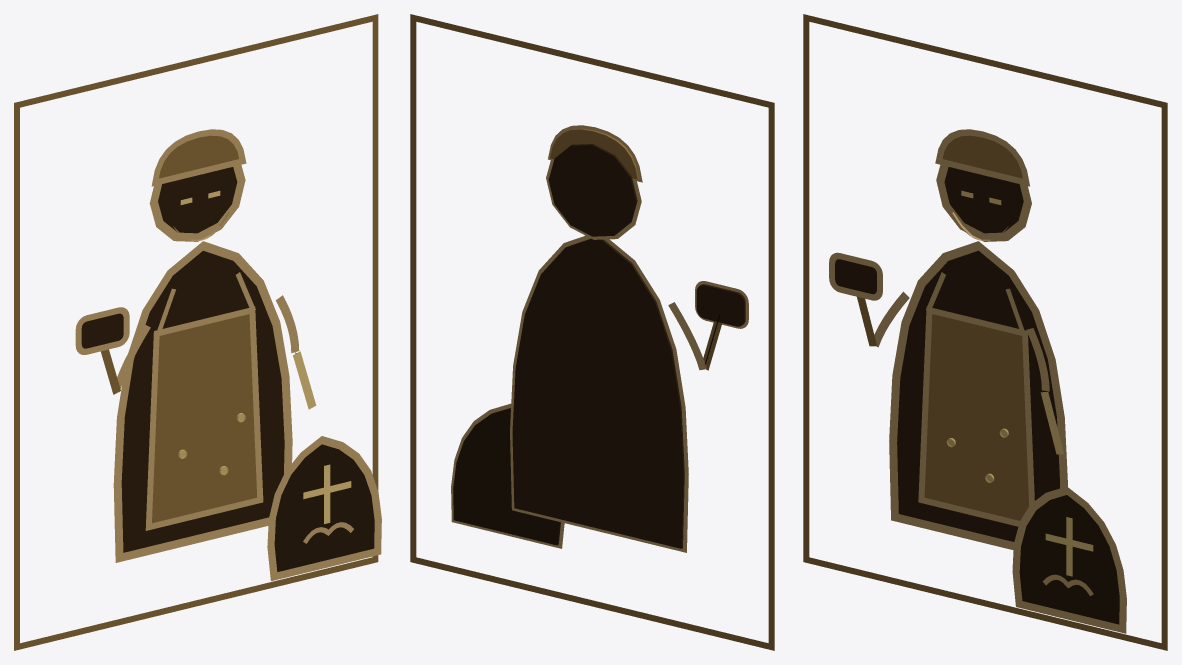
File: npc-reshchik-kairakov.glb
3 renders of one model, left to right at view 1: azimuth 30°, elevation 25°; view 2: azimuth 150°, elevation 25°; view 3: azimuth 330°, elevation 25°, orthographic.
Parts seen in each view (by area): view 1: npc-reshchik-kairakov; view 2: npc-reshchik-kairakov; view 3: npc-reshchik-kairakov.
Part boxes in pixels (bbox=[...]): npc-reshchik-kairakov: bbox=[14, 14, 381, 650]; npc-reshchik-kairakov: bbox=[410, 14, 774, 650]; npc-reshchik-kairakov: bbox=[803, 14, 1167, 650].
Bounding box in the file's own units: 1.14 × 1.64 × 0.1354.
